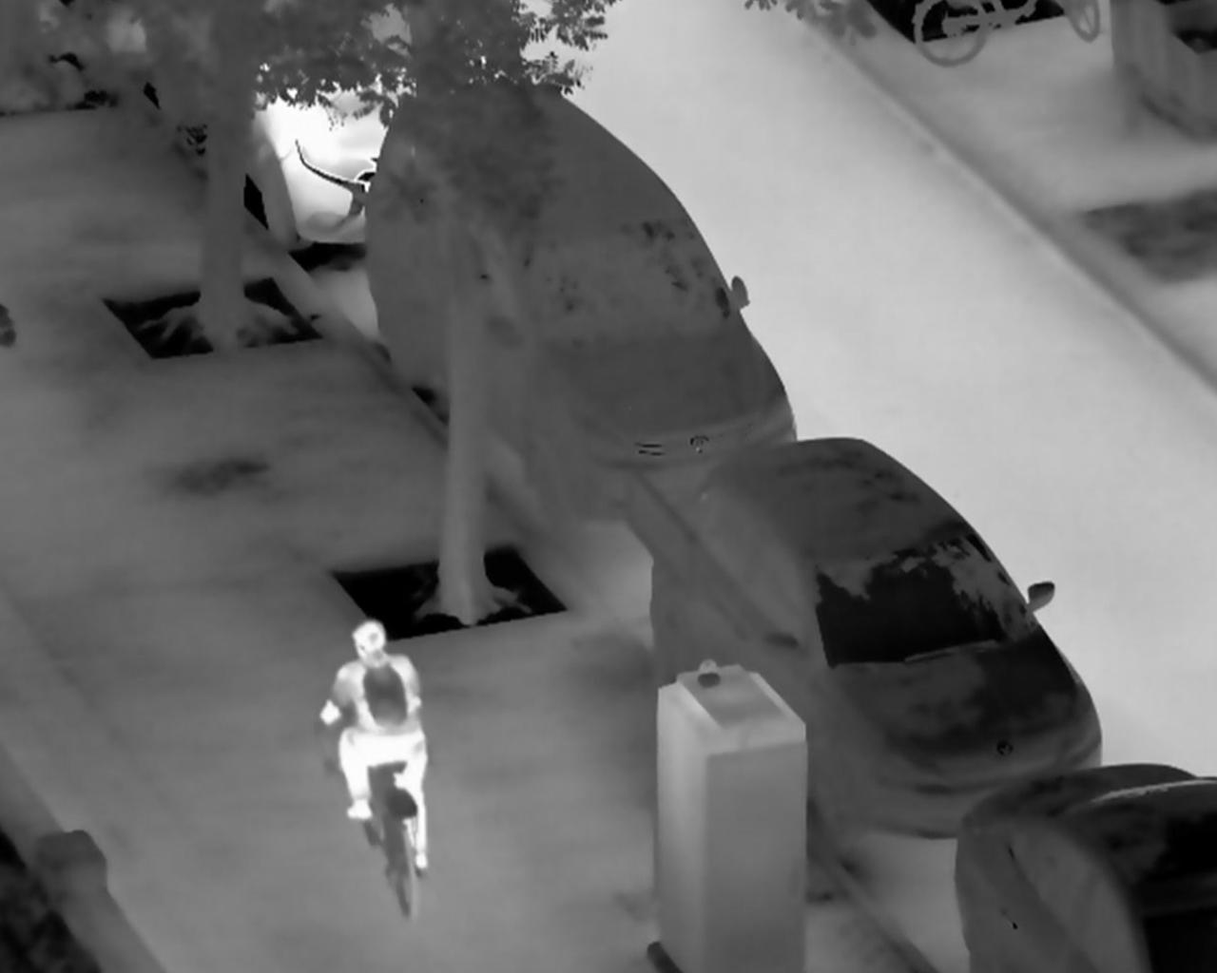person: (316, 616, 429, 876)
